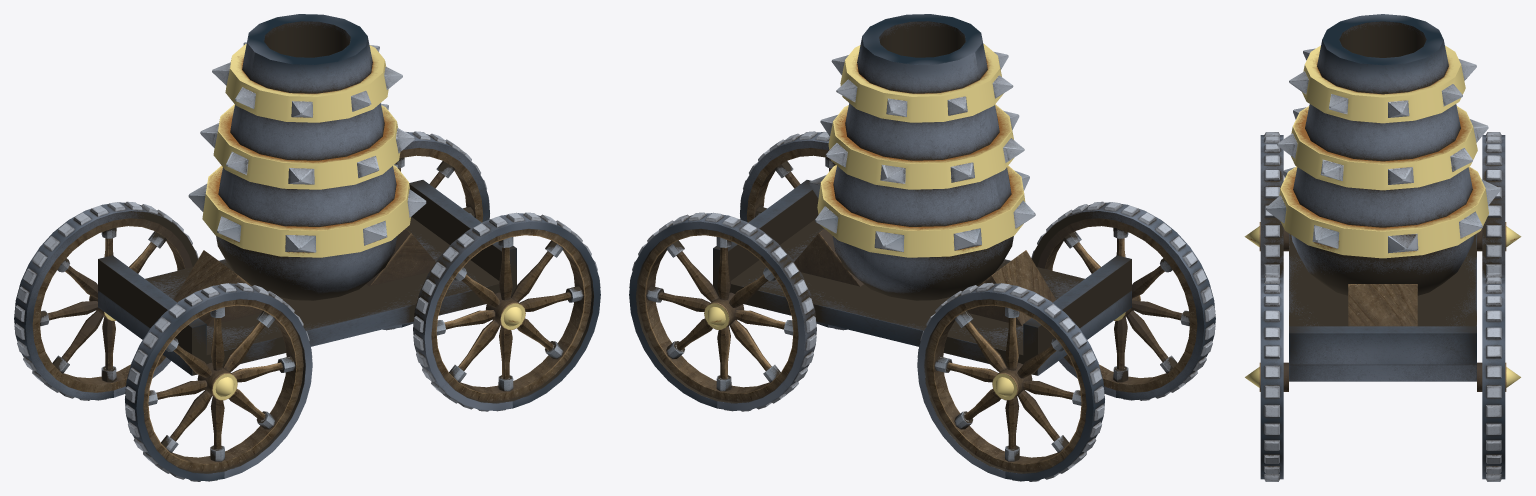
Rendered from Gun03.fbx.
3 views of the same model, side by side, from view 1: azimuth 30°, elevation 25°; view 2: azimuth 150°, elevation 25°; view 3: azimuth 270°, elevation 25° (orthographic).
Visible parts, largest first — view 1: Cylinder.035, Cylinder.033, Plane.008, Plane.009, Cylinder.038; view 2: Cylinder.035, Cylinder.033, Plane.008, Plane.009, Cylinder.038; view 3: Cylinder.033, Cylinder.035, Plane.008, Plane.009, Cylinder.038.
Part boxes in pixels (x1,y1,x2,y2): Cylinder.035: [14, 131, 600, 481]; Cylinder.033: [188, 14, 426, 300]; Plane.008: [98, 217, 516, 375]; Plane.009: [98, 180, 516, 357]; Cylinder.038: [174, 229, 435, 325]; Cylinder.035: [629, 131, 1215, 481]; Cylinder.033: [809, 14, 1035, 300]; Plane.008: [713, 219, 1131, 375]; Plane.009: [713, 180, 1131, 357]; Cylinder.038: [794, 229, 1055, 325]; Cylinder.033: [1266, 14, 1499, 295]; Cylinder.035: [1244, 132, 1521, 481]; Plane.008: [1289, 233, 1476, 381]; Plane.009: [1289, 326, 1476, 364]; Cylinder.038: [1348, 284, 1417, 326].
Bounding box in the file's own units: 577 × 425 × 295.
1 material, 1 textured.
